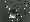person: (10, 7, 18, 18)
